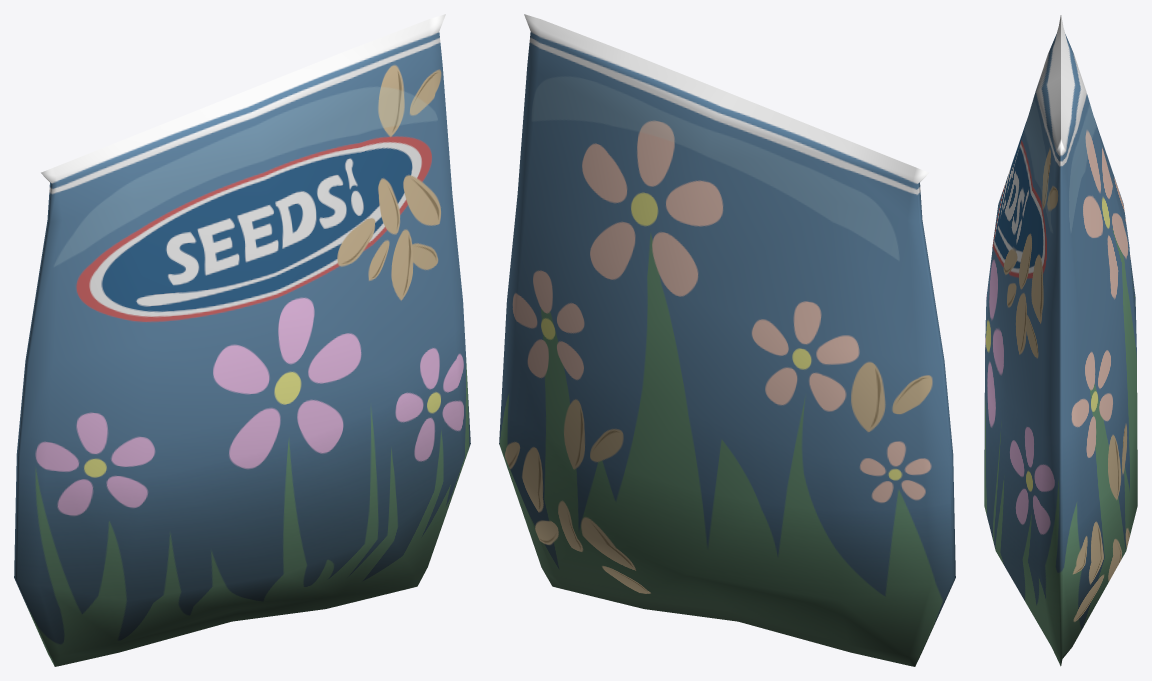
Rendered from SeedPacket.glb.
The picture shows the model from 3 angles, left to right: view 1: azimuth 30°, elevation 25°; view 2: azimuth 150°, elevation 25°; view 3: azimuth 270°, elevation 25°; orthographic projection. The views are drawn at different scales.
Visible parts, largest first — view 1: SeedPacket; view 2: SeedPacket; view 3: SeedPacket.
Part boxes in pixels (left/top/right/bottom): SeedPacket: left=14, top=14, right=470, bottom=666; SeedPacket: left=499, top=14, right=955, bottom=666; SeedPacket: left=984, top=15, right=1137, bottom=666.
Size of the model in its own units: 0.1185 by 0.1411 by 0.0367.
Materials: 1 (1 with a texture image).
